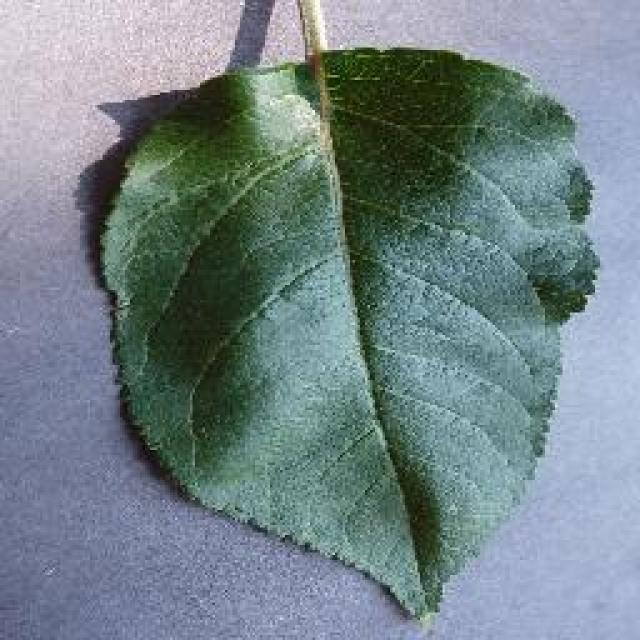apple scab disease: (92, 2, 600, 628)
